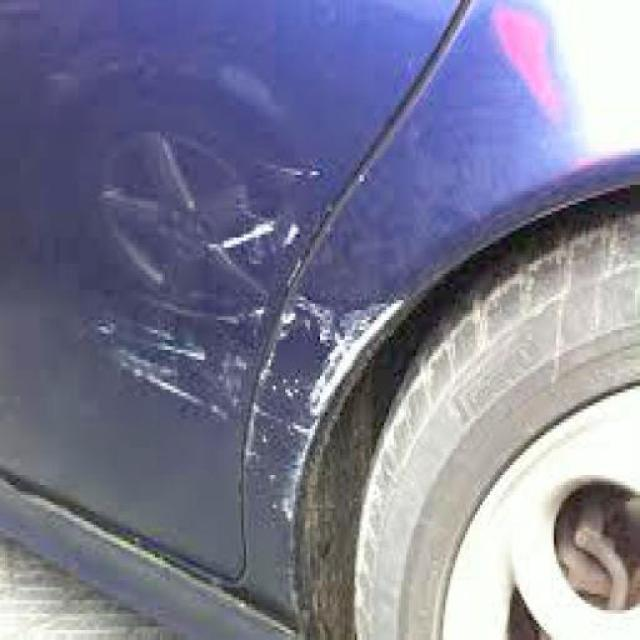Car-Damage: (91, 146, 419, 529)
